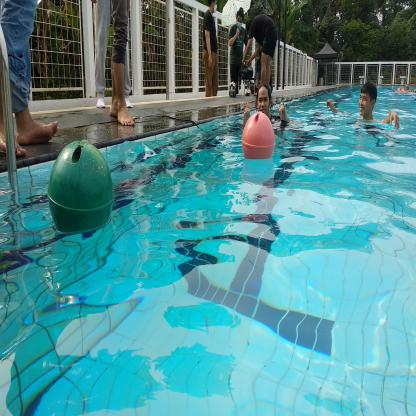green_buoy: (45, 132, 120, 245)
red_buoy: (237, 108, 281, 172)
